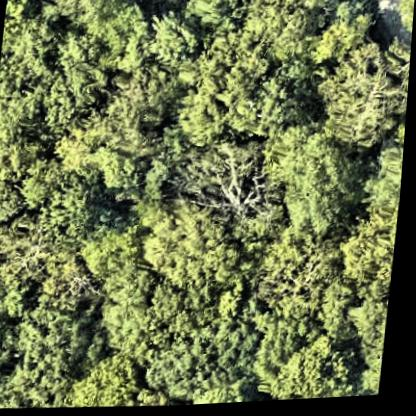tree-top: (107, 217, 263, 388), (177, 33, 308, 151), (316, 42, 413, 155), (1, 304, 104, 409), (270, 139, 367, 241), (255, 318, 367, 405), (145, 206, 249, 299), (179, 141, 279, 232), (0, 2, 63, 125), (101, 66, 181, 157), (344, 175, 405, 293), (358, 142, 407, 261), (0, 209, 75, 286), (244, 0, 328, 64), (0, 100, 41, 227), (76, 347, 156, 411), (80, 222, 152, 292), (301, 3, 374, 70), (150, 0, 233, 53), (341, 227, 399, 300), (54, 60, 108, 132), (173, 82, 231, 147), (143, 5, 205, 65), (52, 169, 114, 225), (31, 0, 119, 30), (359, 320, 391, 400), (177, 0, 249, 30), (375, 0, 416, 47), (0, 268, 10, 343)
